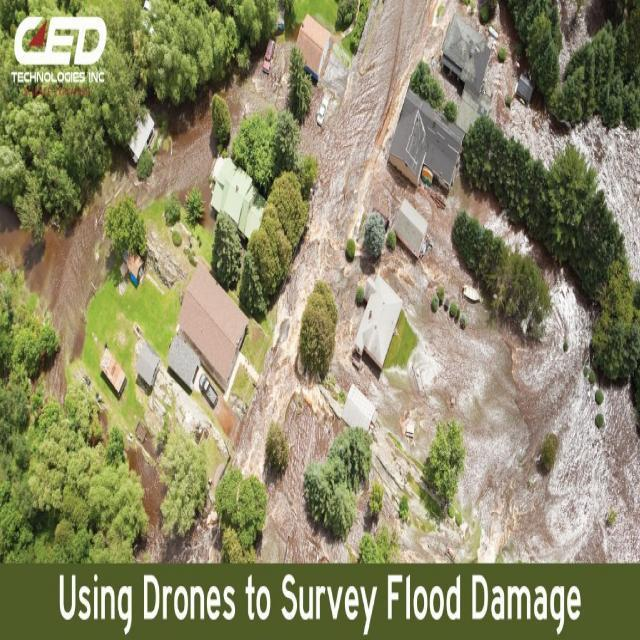flood: (371, 184, 640, 564), (234, 0, 437, 476), (26, 102, 214, 396), (504, 105, 640, 280), (260, 386, 350, 564), (226, 43, 288, 126)
house: (172, 268, 248, 414), (392, 90, 462, 192), (13, 12, 109, 68), (440, 8, 494, 102), (350, 278, 404, 371), (210, 155, 259, 239), (297, 12, 332, 80)
